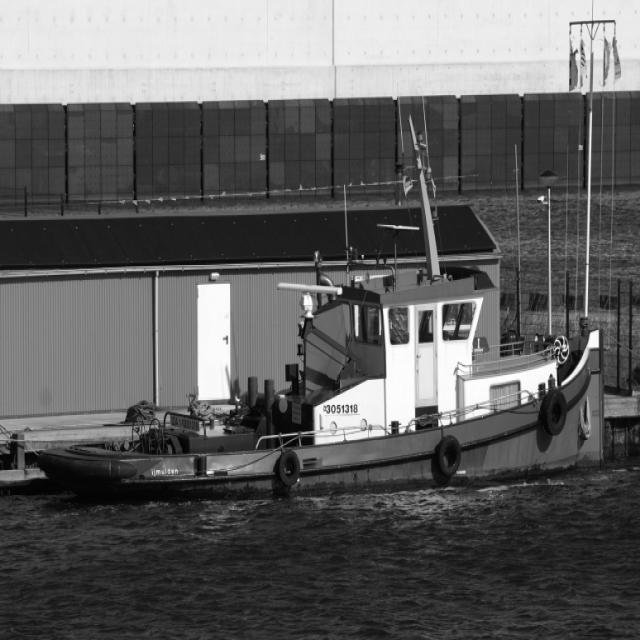tugboat: (33, 255, 611, 517)
